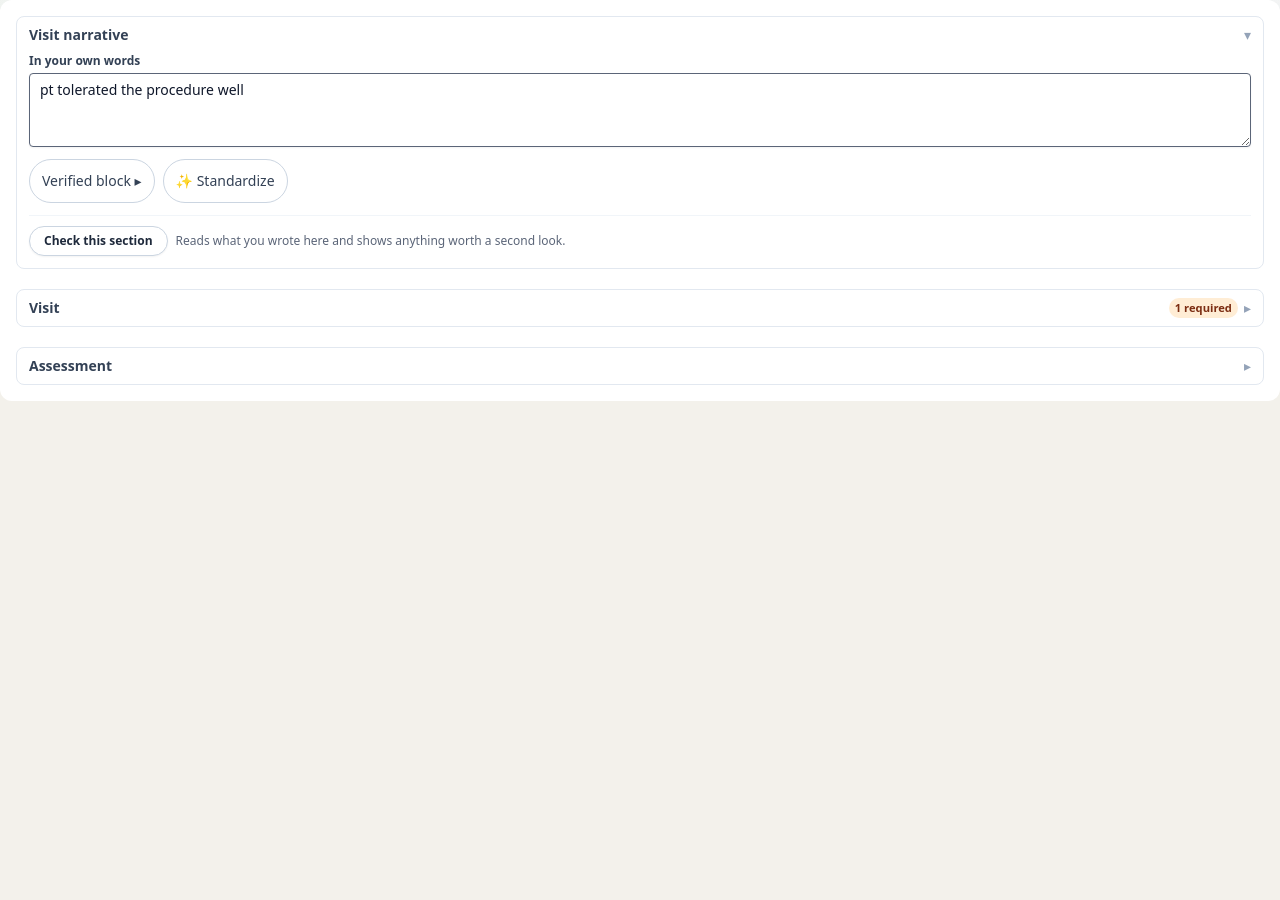
Test case: answering a proposal › stops offering a proposal that has been answered
This screenshot has width=1280, height=900.
Click the button "Check this section": (98, 241) x1=29 y1=226 x2=168 y2=256
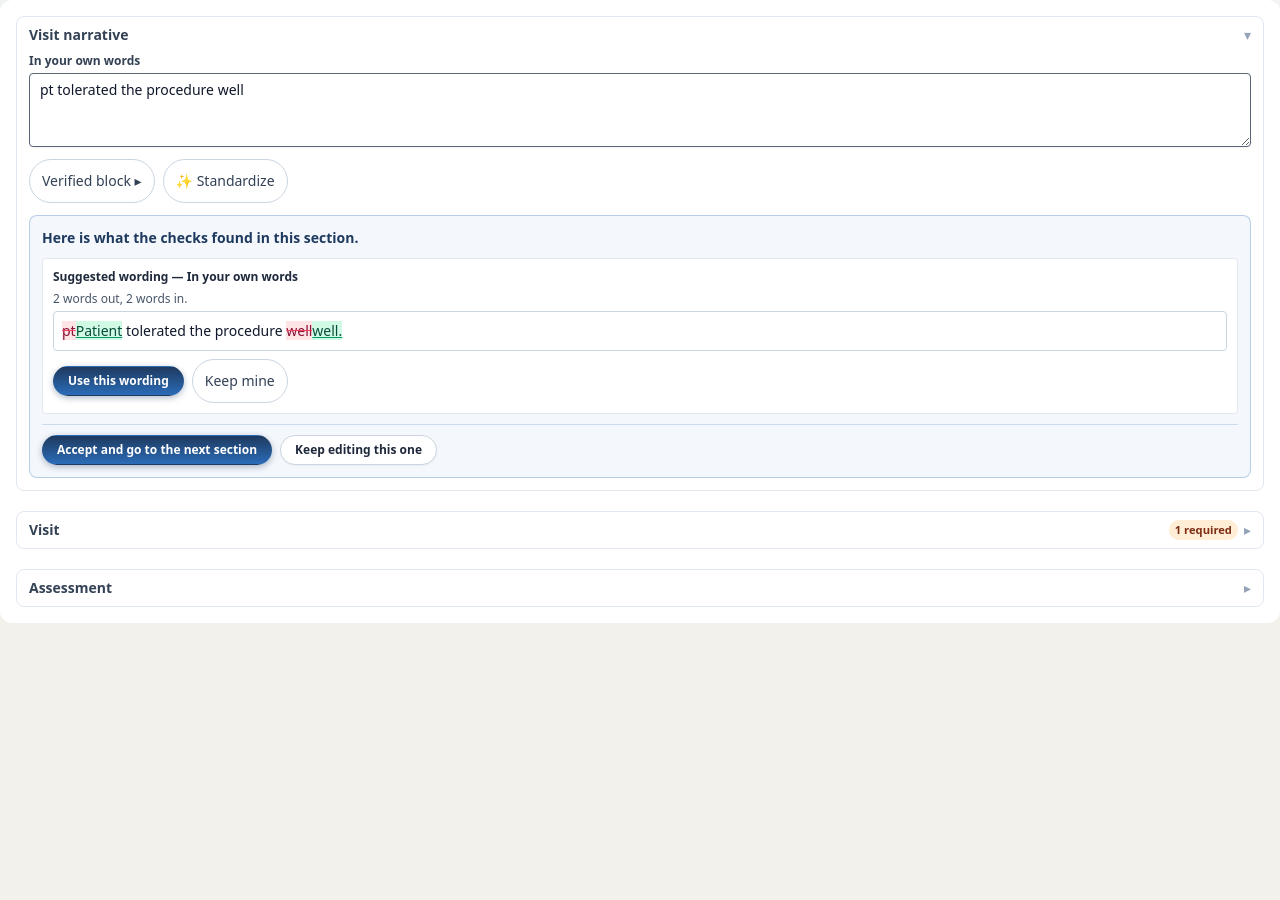
Click the button "Keep mine": (240, 381) x1=192 y1=359 x2=288 y2=403
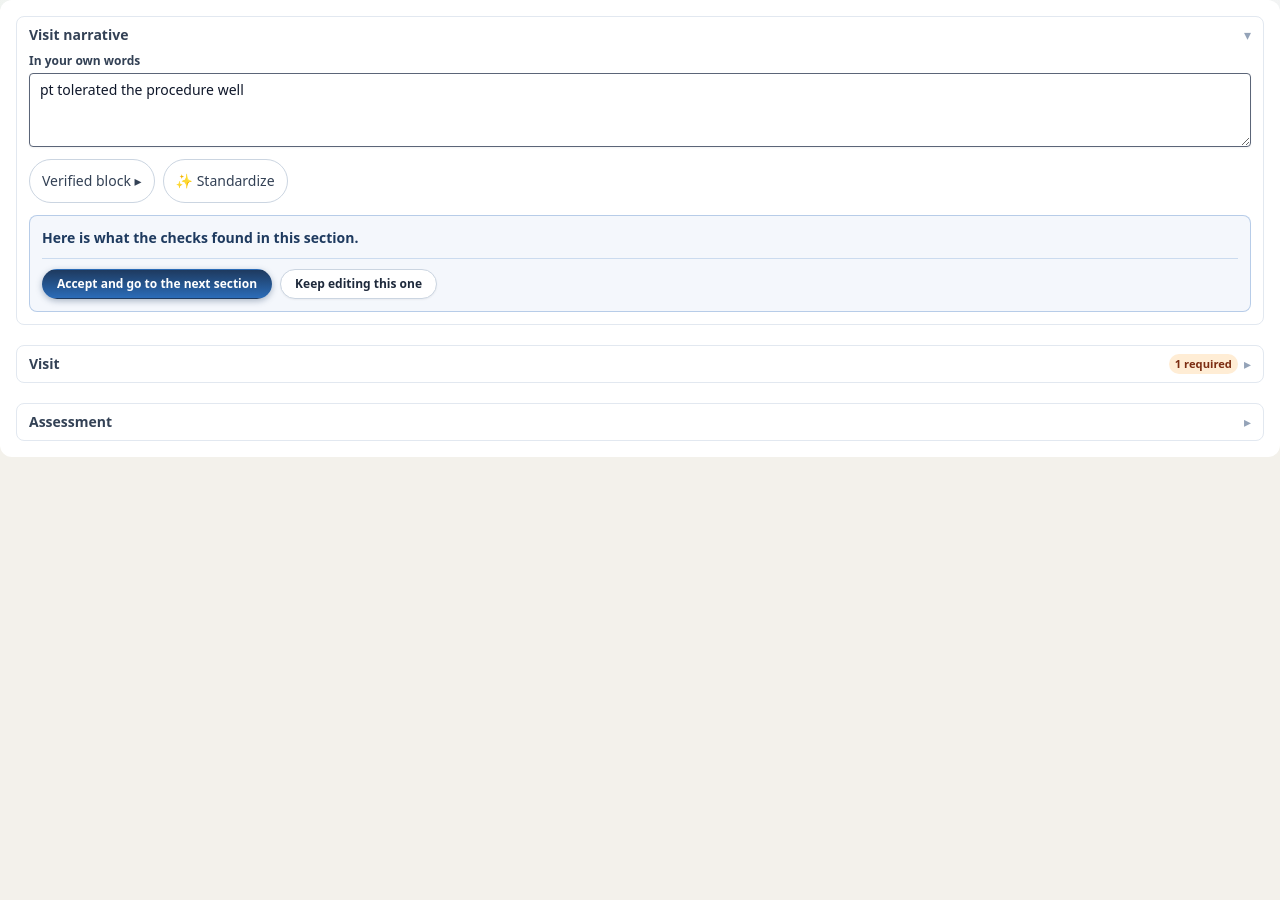
Now the text "Suggested wording" is gone
